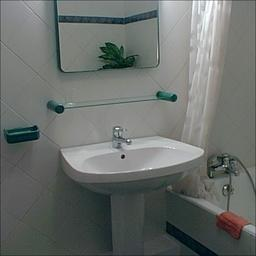Lavamanos: (54, 122, 207, 203)
